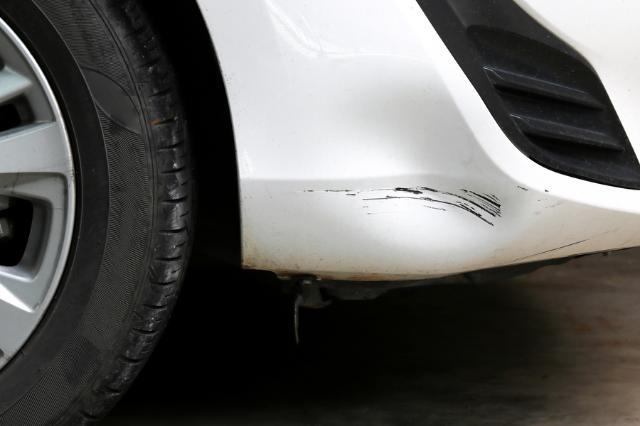Bonnet: (230, 69, 546, 307)
